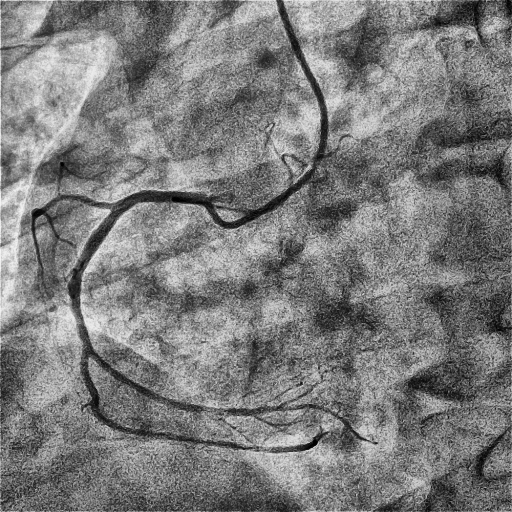pborca: (255, 405, 370, 443)
pda: (253, 416, 297, 429)
rca: (68, 190, 258, 417)
